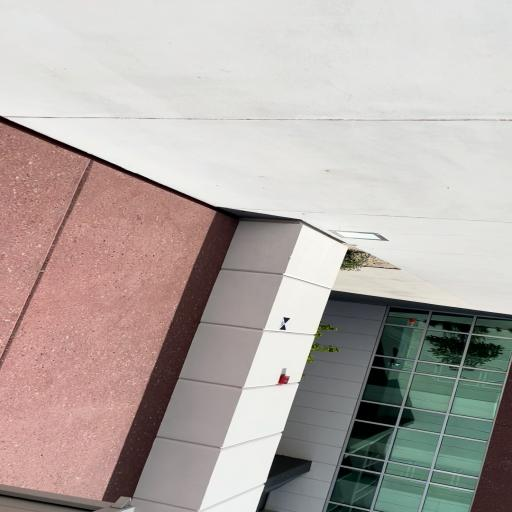target6: (278, 317, 291, 330)
